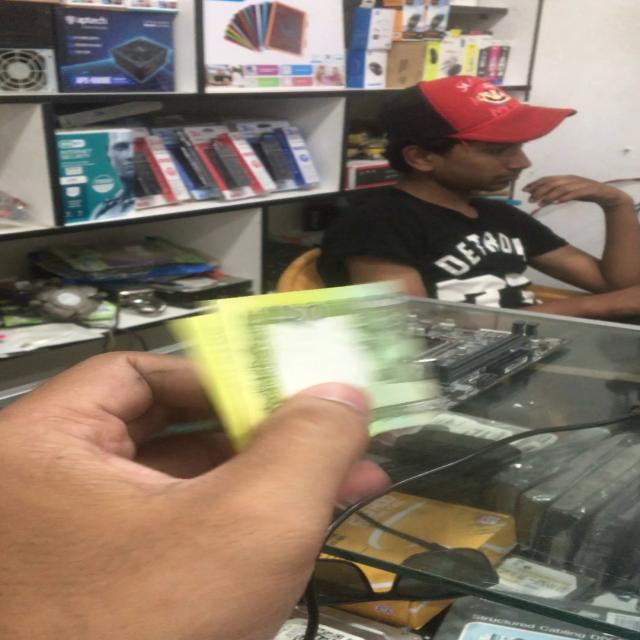Taka: (195, 287, 432, 440)
